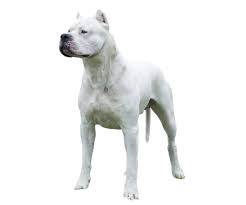dog: (57, 5, 195, 202)
